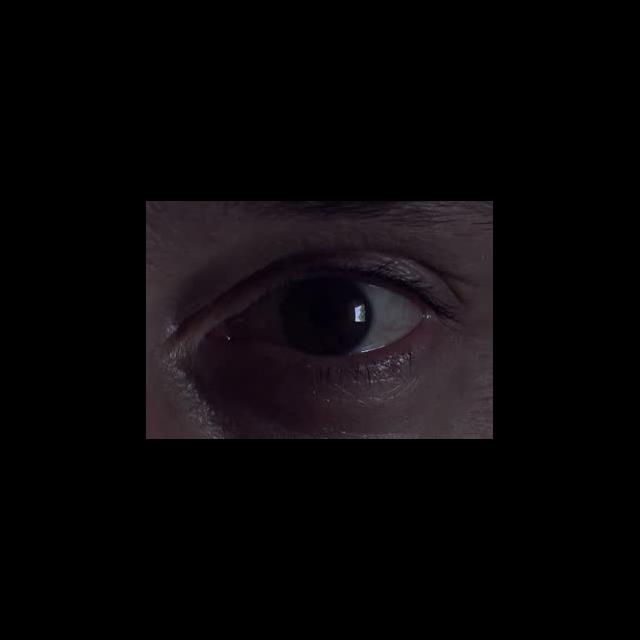eye: (236, 275, 428, 360)
iris: (281, 279, 374, 355)
